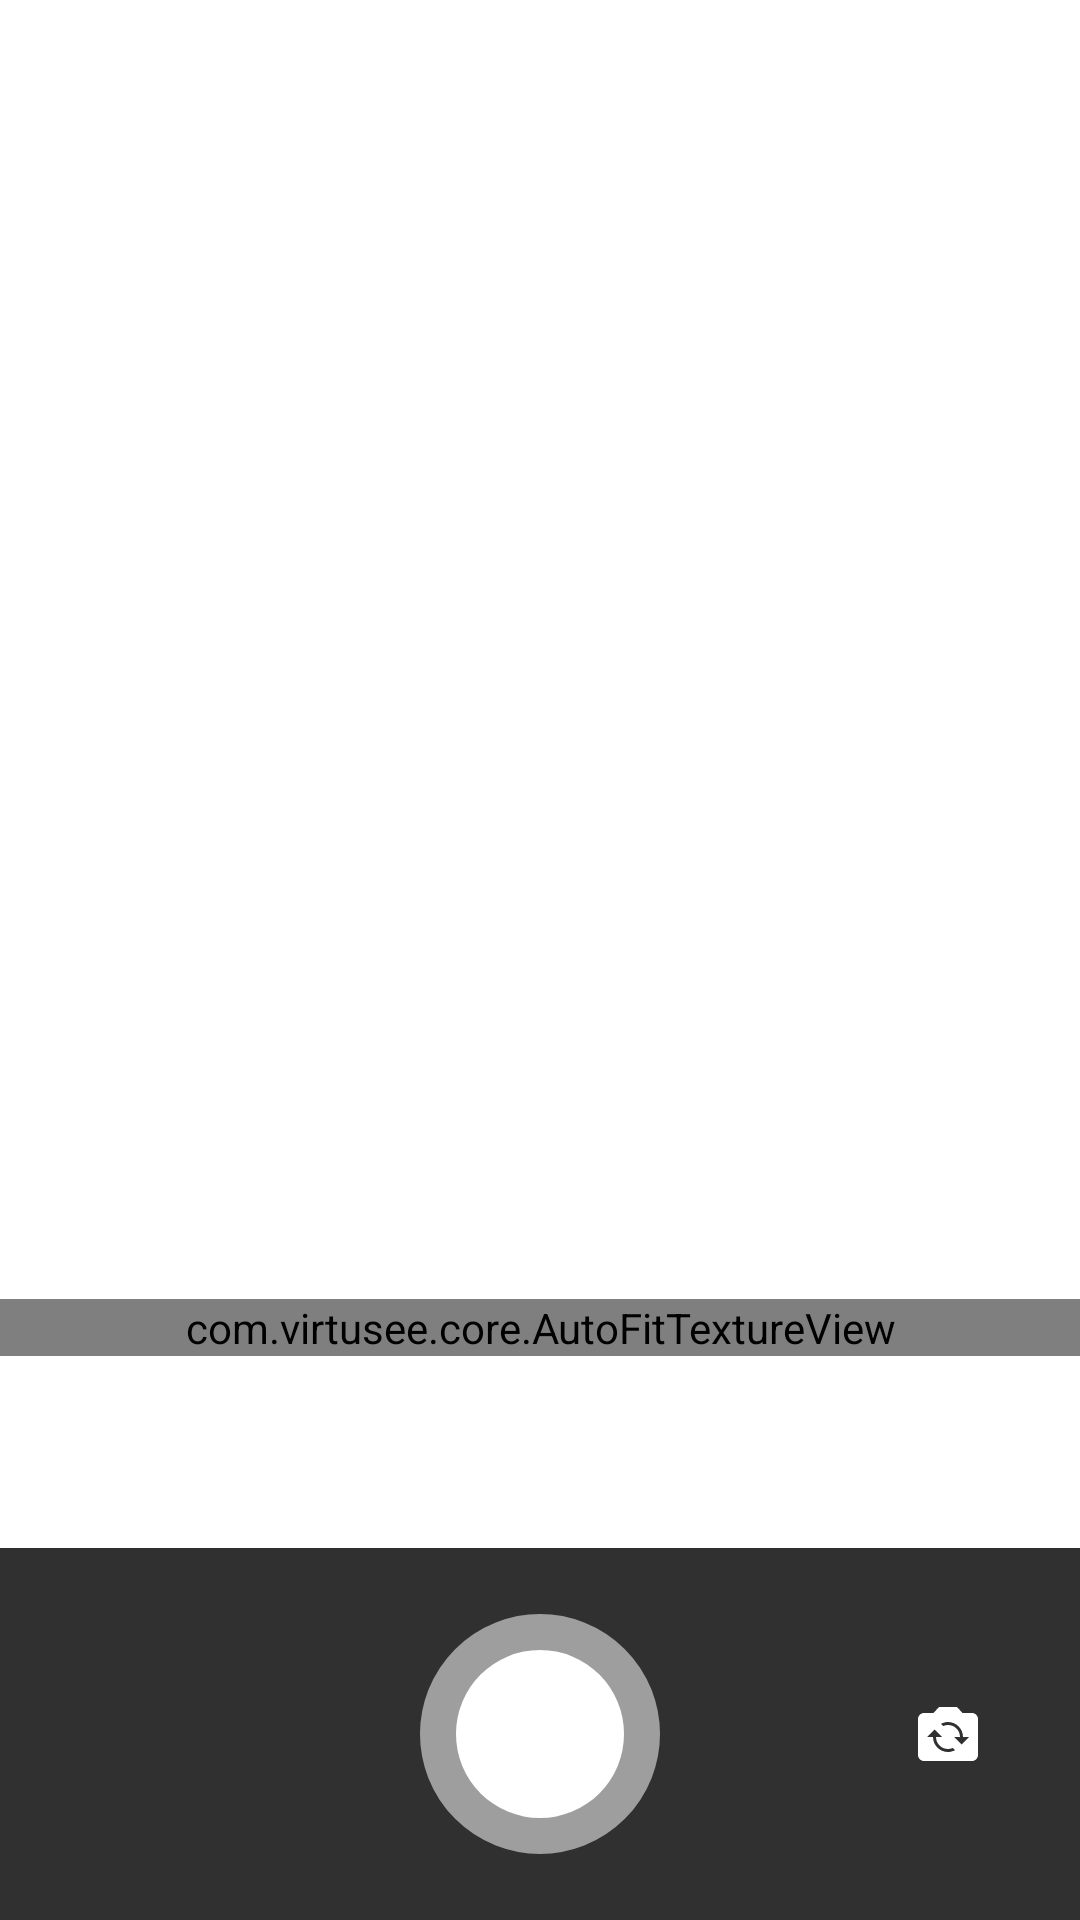

Locate icon controls on the screen. Image size 1080x1920, boxes as detection(x1, y1, x2, y2).
Flip Camera: detection(918, 1707, 978, 1761)
take picture: detection(420, 1614, 660, 1854)
